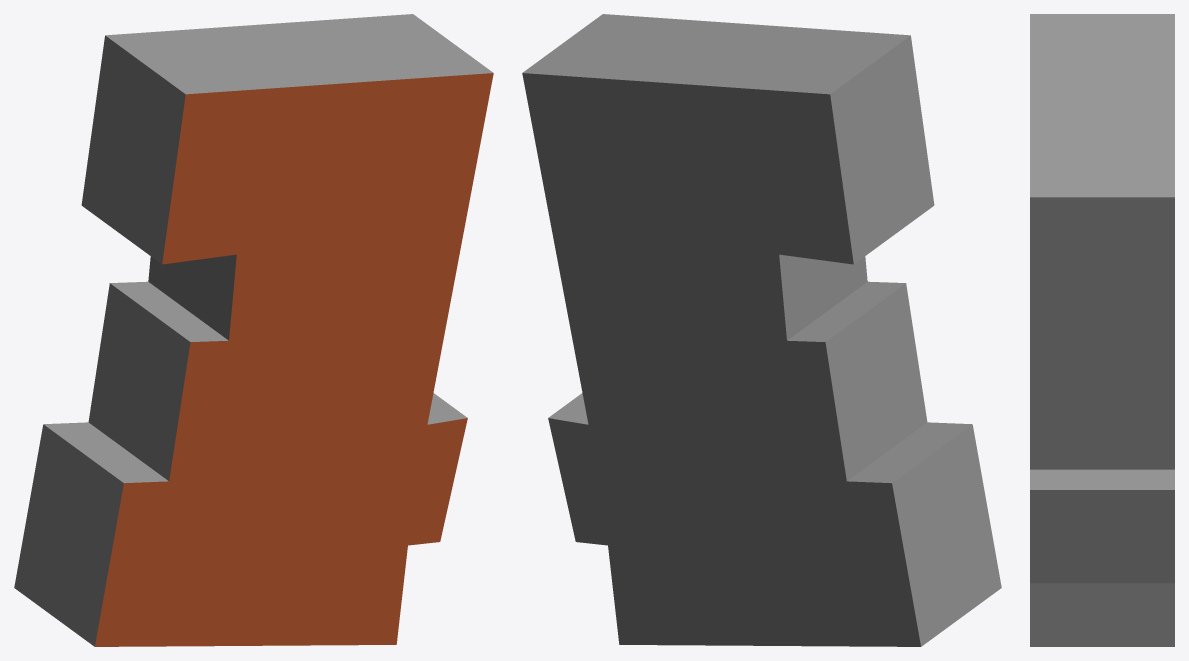
The model's file is construction_0910_assumed_A_Casa_h6m.obj.
The picture shows the model from 3 angles, left to right: view 1: azimuth 30°, elevation 25°; view 2: azimuth 150°, elevation 25°; view 3: azimuth 270°, elevation 25°; orthographic projection. The views are drawn at different scales.
Visible parts, largest first — view 1: construction_0910_assumed_A_Casa; view 2: construction_0910_assumed_A_Casa; view 3: construction_0910_assumed_A_Casa.
Part boxes in pixels (<box>): construction_0910_assumed_A_Casa: <box>14,14,493,646</box>; construction_0910_assumed_A_Casa: <box>522,14,1001,646</box>; construction_0910_assumed_A_Casa: <box>1030,14,1174,646</box>.
Size of the model in its own units: 17.14 by 24.71 by 6.
